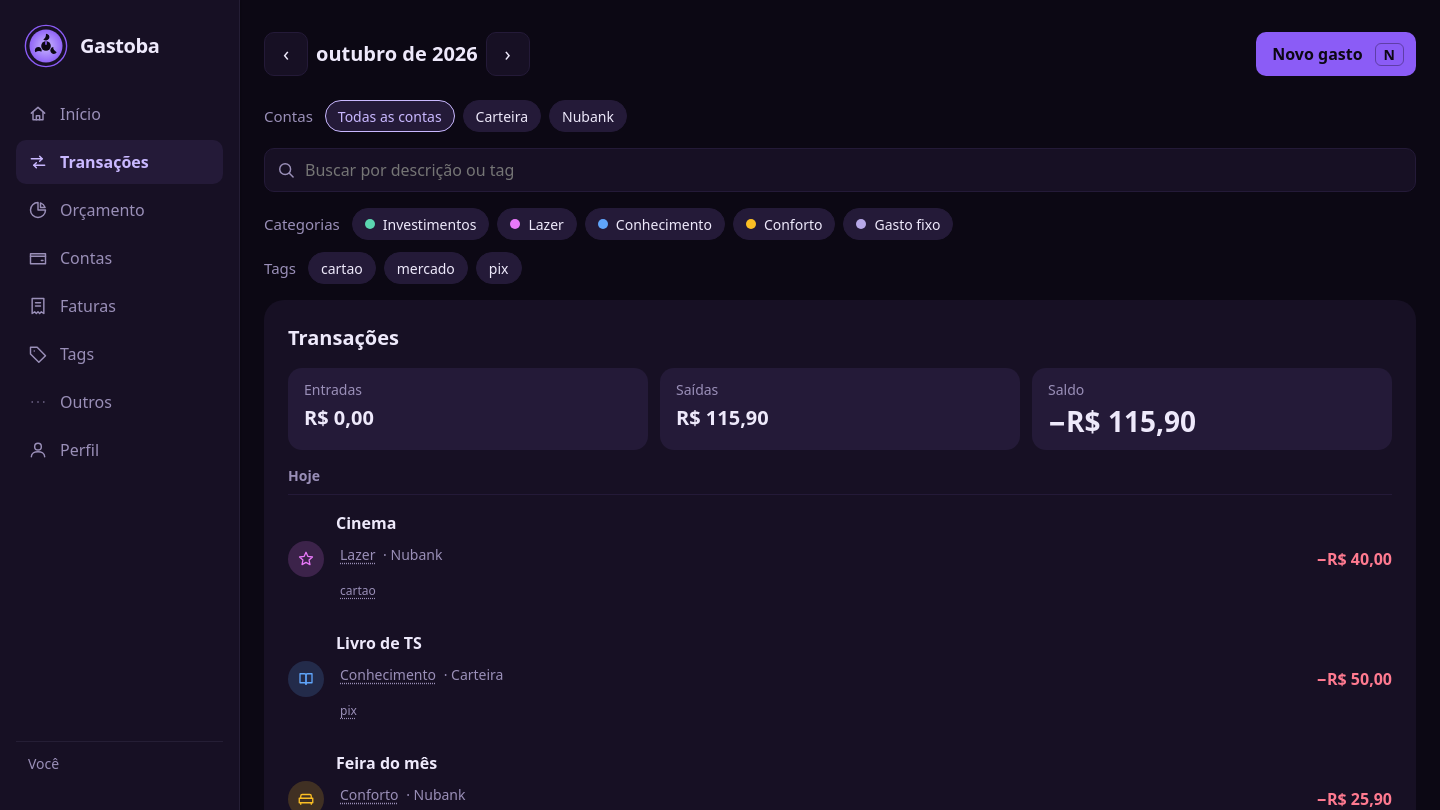
Test case: Filtros do painel › Limpar só aparece com filtro ativo e limpa o filtro
Expected: the button "pix" below "Categorias" is shown, [476,252,522,284]
Expected: the button "Limpar" is not shown
Click the button "cartao" below "Categorias".
click(342, 268)  # box [308,252,376,284]
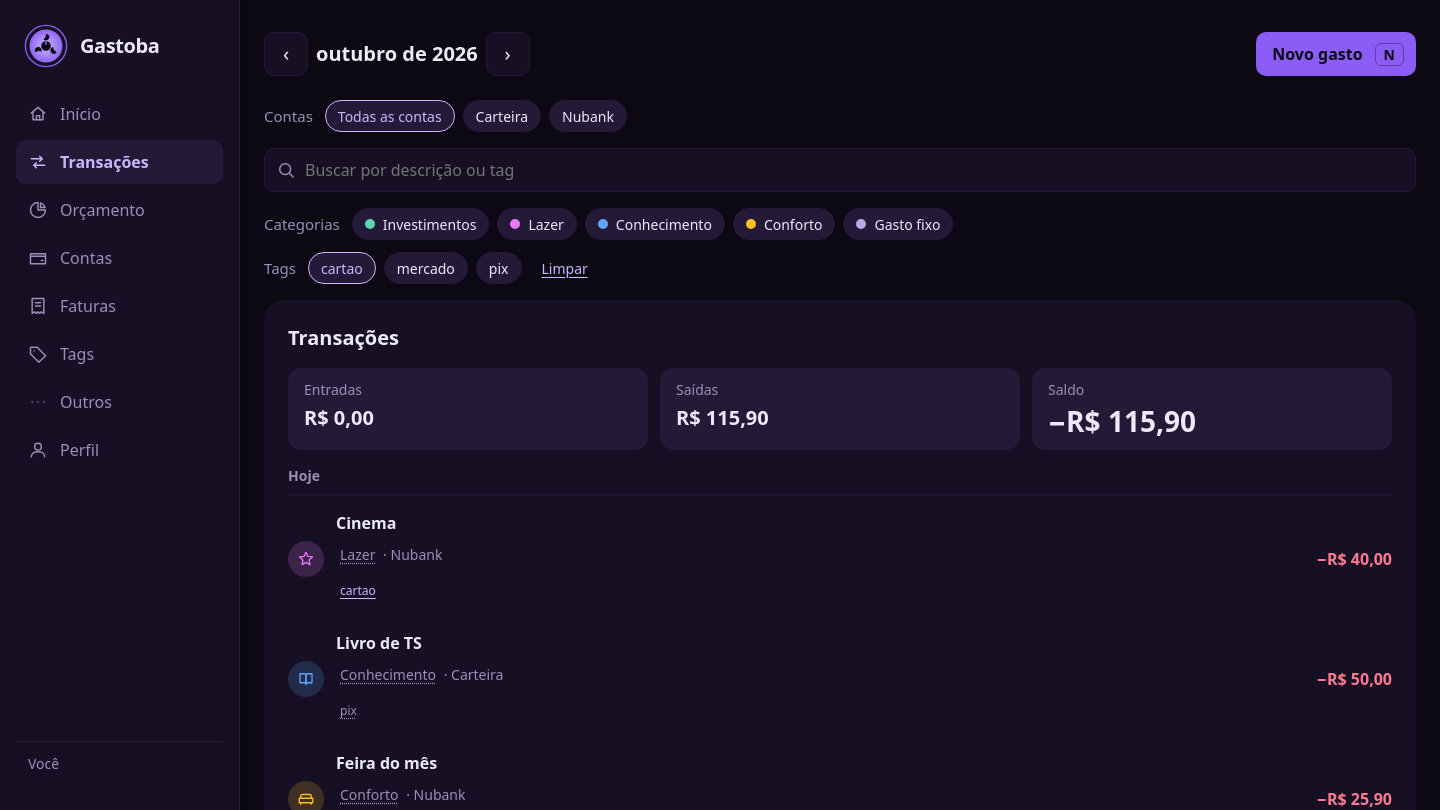
Click the button "Lazer" in the row of "Categorias".
click(537, 224)  # box [497,208,577,240]
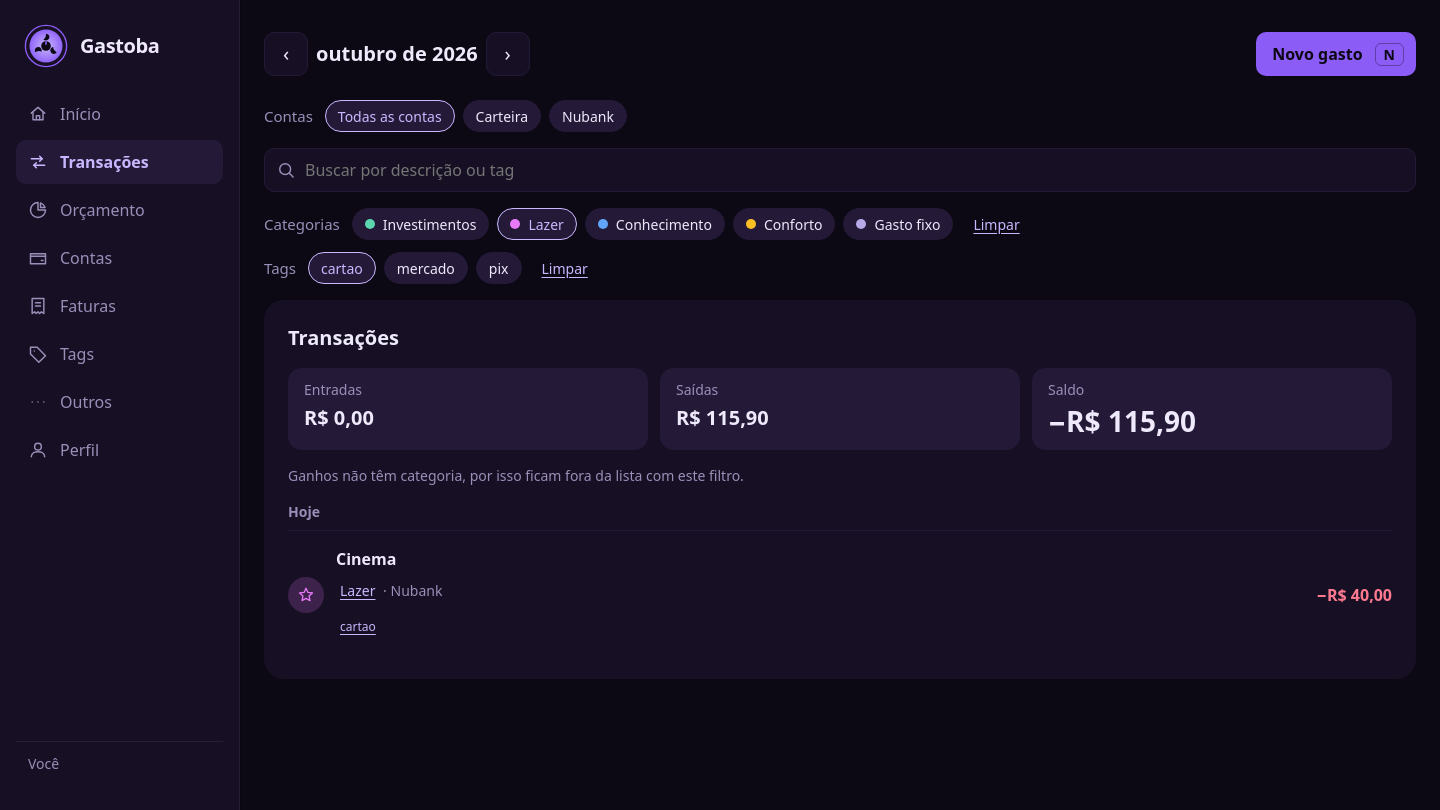
Click the 2nd button "Limpar".
click(565, 268)  # box [534,256,596,280]
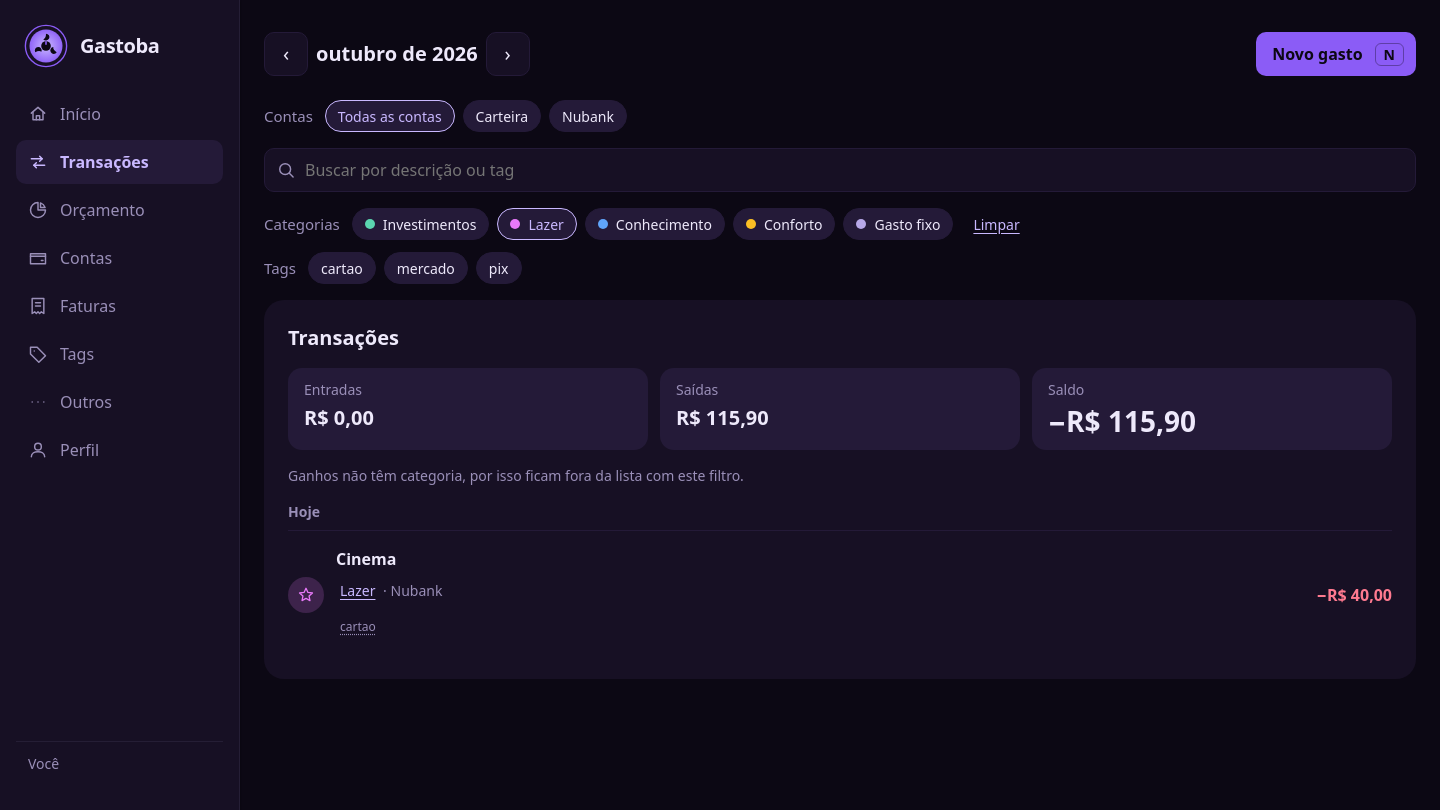
Click the button "Limpar".
click(997, 224)  # box [965,212,1028,236]
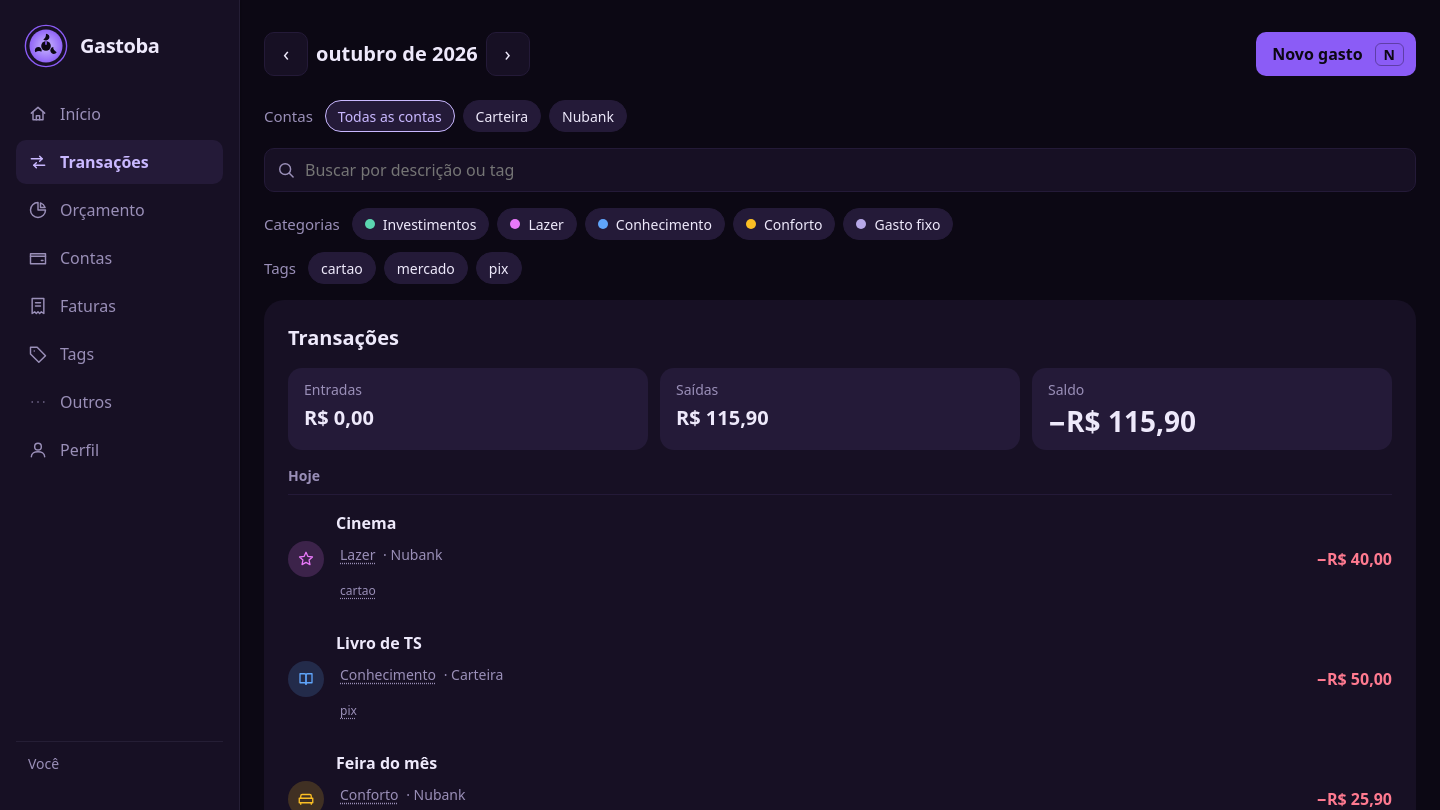
Expected: the button "Limpar" is gone
